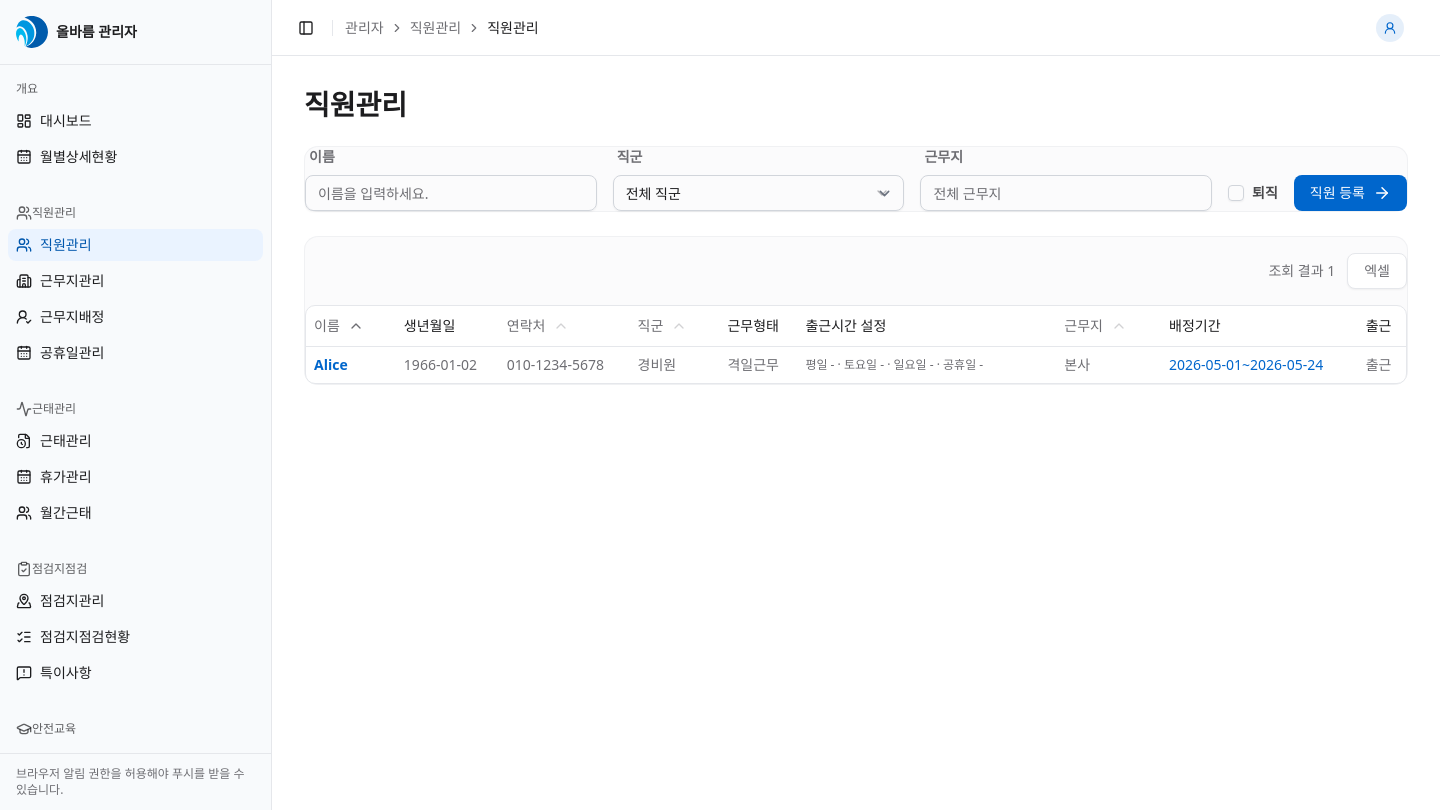
Test: employee roster page › opens registration in a modal and preserves search when closed
Expected: the link "Alice" is shown, [314,355,348,374]
In the field labelled "이름": (451, 193) [305,175,597,211], type "Alice"
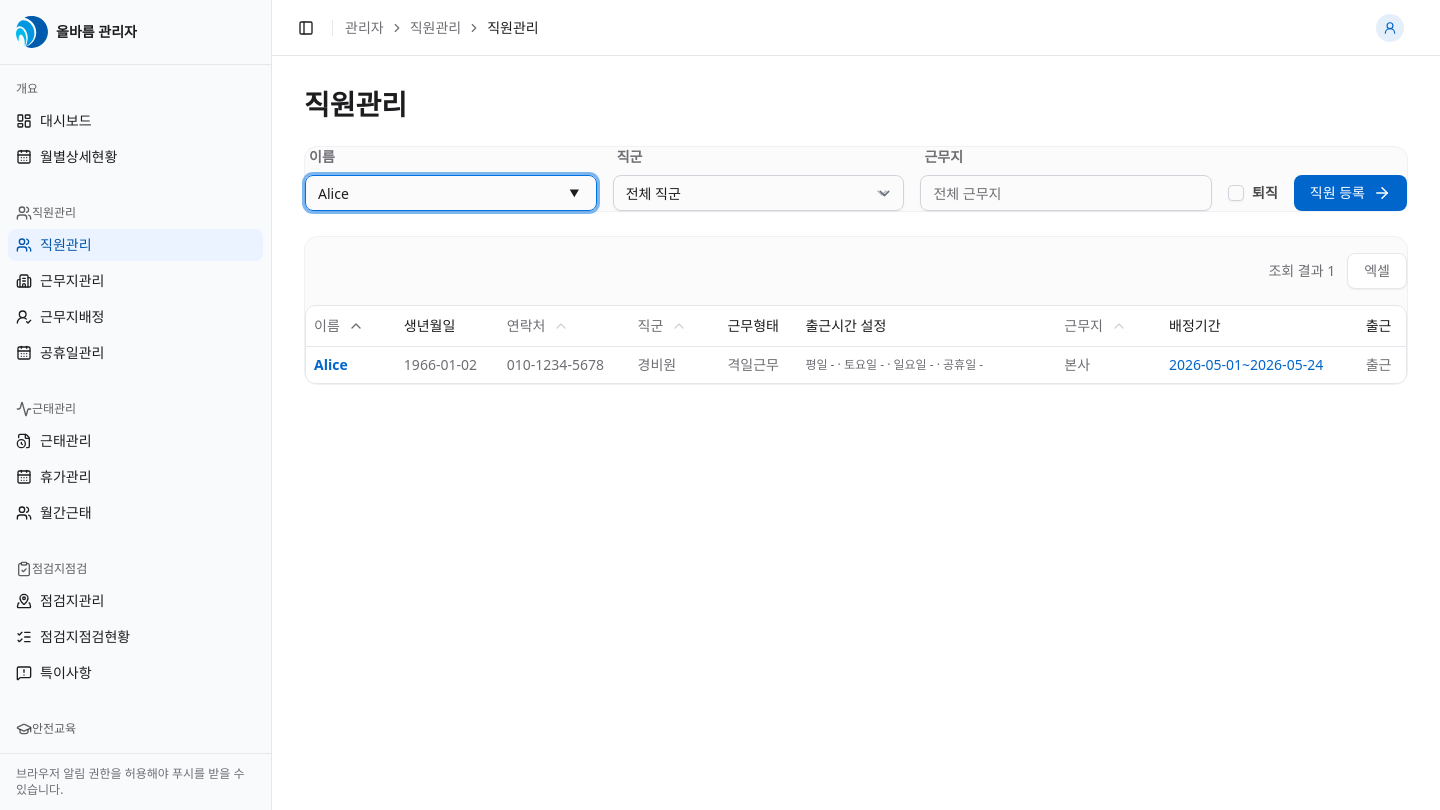
Click the button "직원 등록": (1350, 193) [1294,175,1407,211]
(page scrolled)
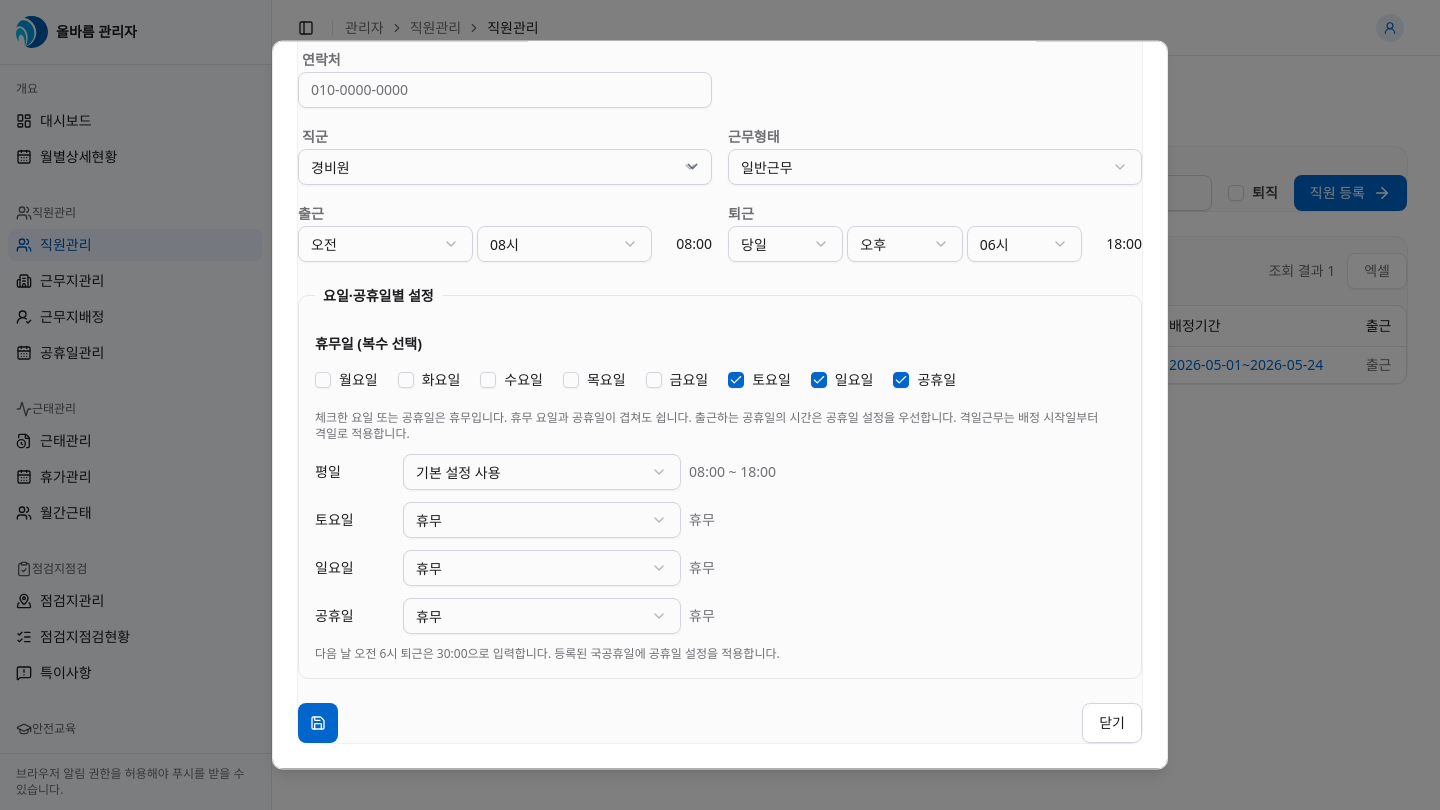
Click the button "닫기": (1112, 723) [1082,703,1142,743]
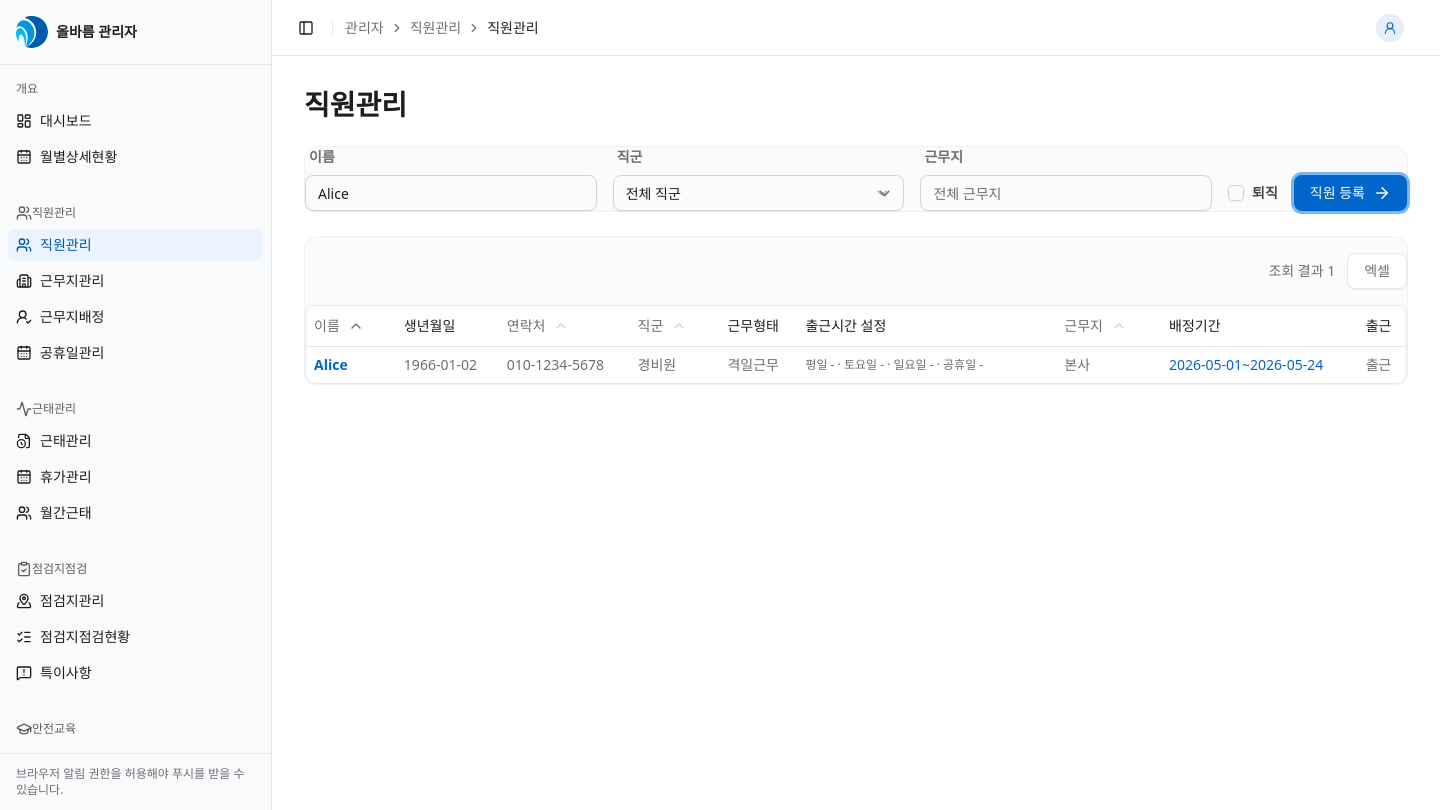
Expected: the dialog is gone
